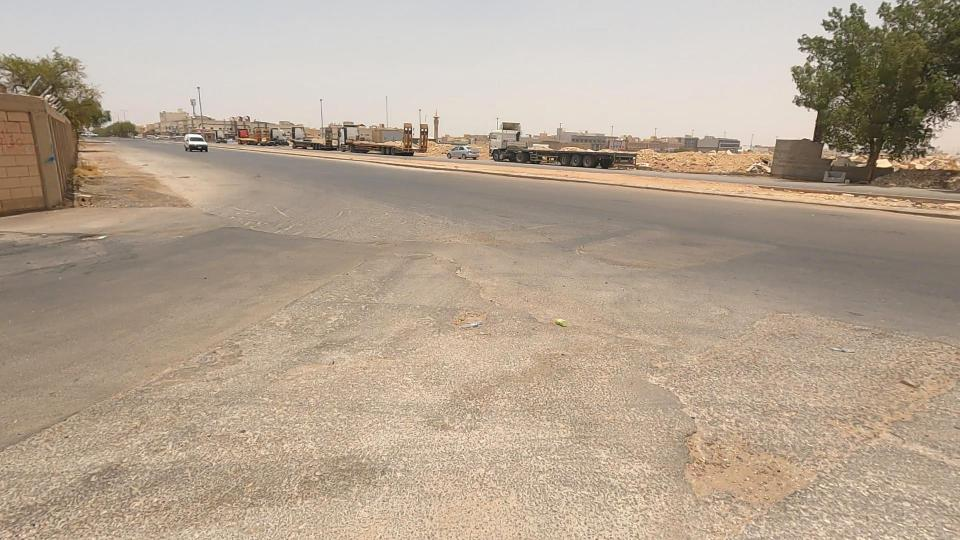POTHOLES: (565, 318, 893, 540), (407, 245, 582, 349)
